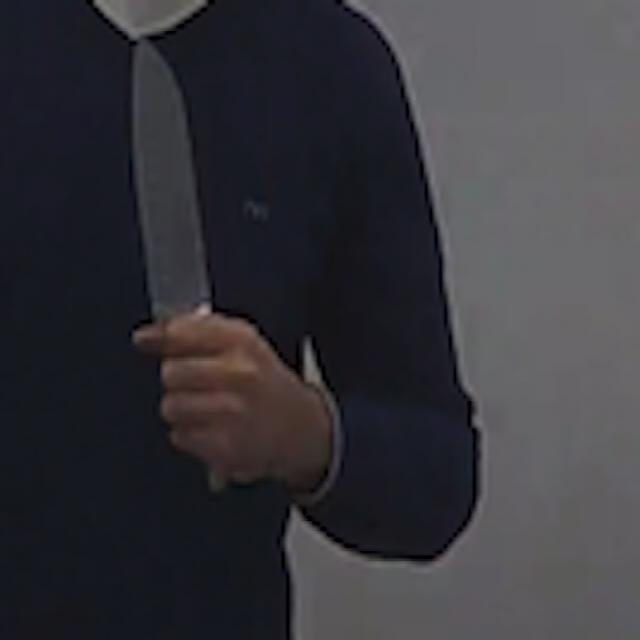suspicion: (122, 4, 487, 572), (128, 31, 212, 309)
